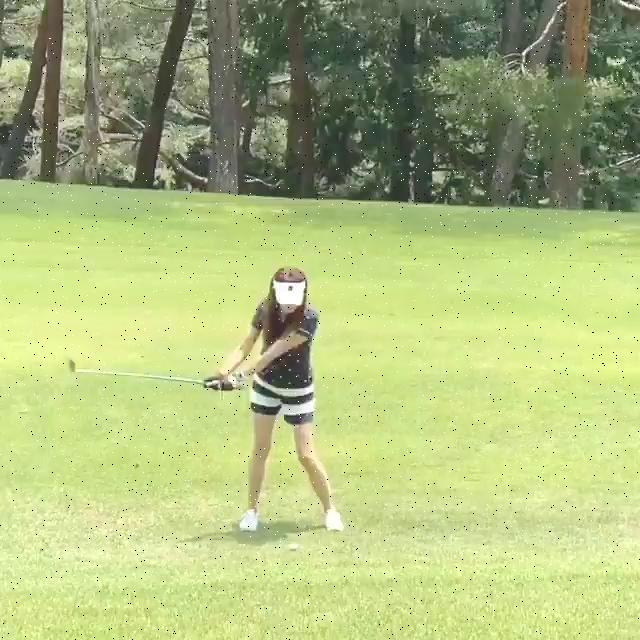ClubHead: (69, 359, 76, 372)
GolfBall: (289, 543, 298, 551)
